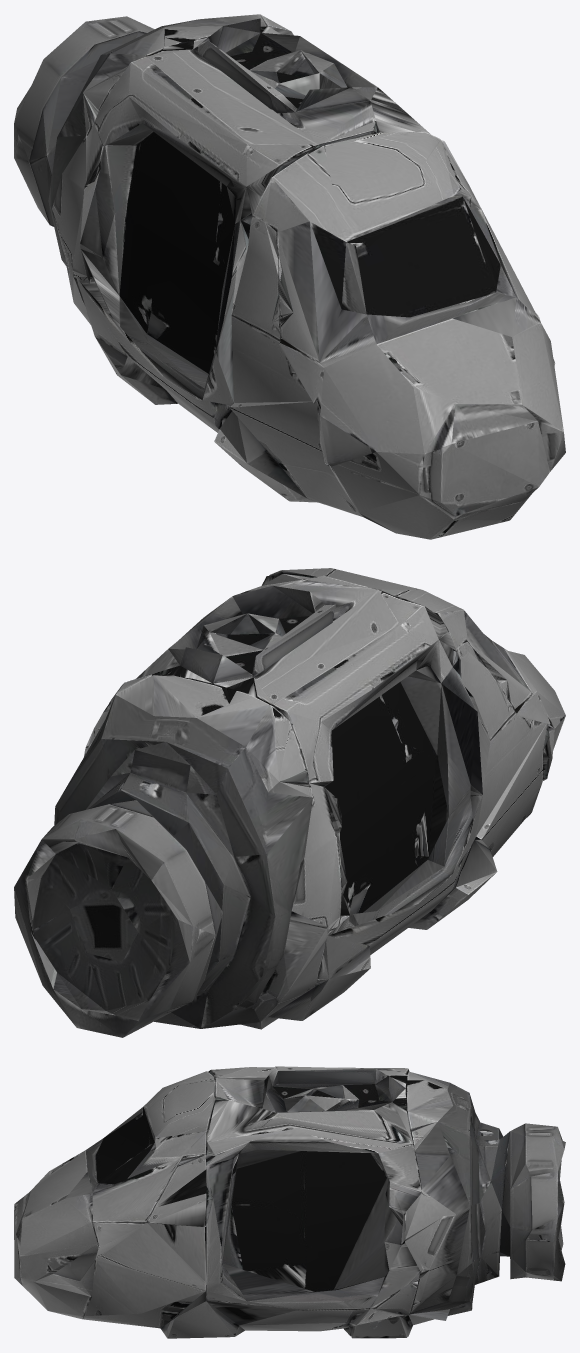
File: shared_escape_pod_lod1.glb
3 renders of one model, top to bottom at view 1: azimuth 30°, elevation 25°; view 2: azimuth 150°, elevation 25°; view 3: azimuth 270°, elevation 25°, orthographic. The views are drawn at different scales.
Parts seen in each view (by area): view 1: mesh_node; view 2: mesh_node; view 3: mesh_node.
Part boxes in pixels (left/top/right/bottom): mesh_node: left=14, top=14, right=565, bottom=539; mesh_node: left=14, top=568, right=565, bottom=1037; mesh_node: left=14, top=1066, right=565, bottom=1338.
Bounding box in the file's own units: 1.86 × 2.38 × 4.87.
1 material, 1 textured.
